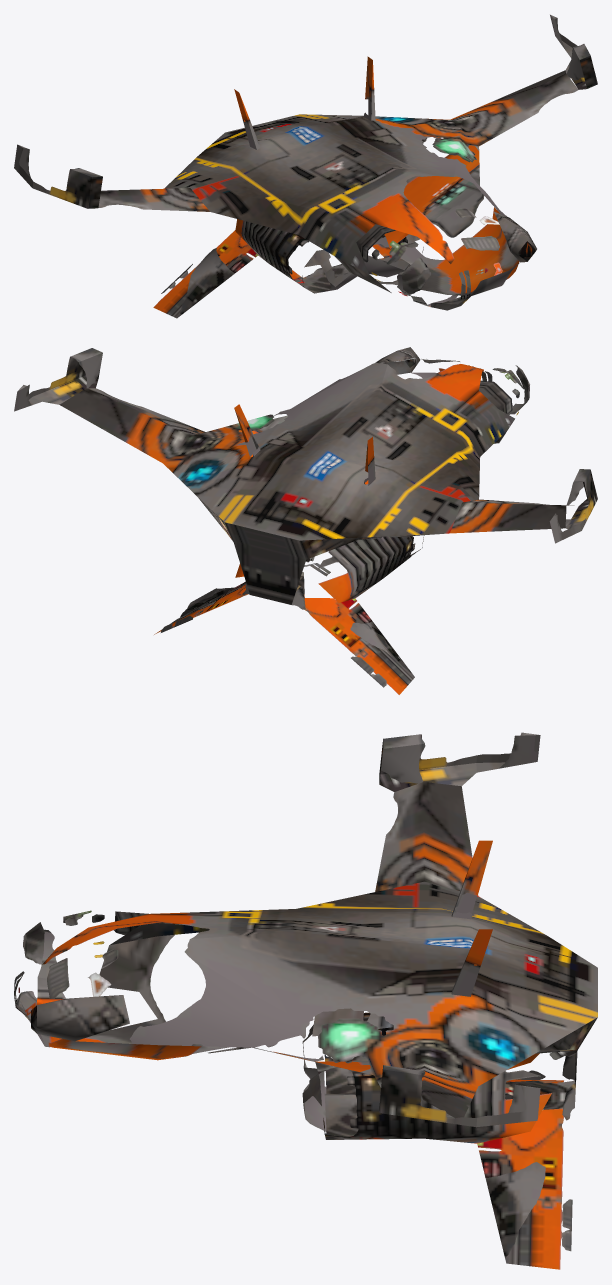
The model's file is LOD1-UVFlip.obj.
3 renders of one model, top to bottom at view 1: azimuth 30°, elevation 25°; view 2: azimuth 150°, elevation 25°; view 3: azimuth 270°, elevation 25°, orthographic. The views are drawn at different scales.
Visible parts, largest first — view 1: H_Scout_Skin; view 2: H_Scout_Skin; view 3: H_Scout_Skin.
Part boxes in pixels (<box>): H_Scout_Skin: <box>14,14,597,318</box>; H_Scout_Skin: <box>14,347,597,694</box>; H_Scout_Skin: <box>14,732,597,1269</box>.
Size of the model in its own units: 15.98 by 6.22 by 10.83.
